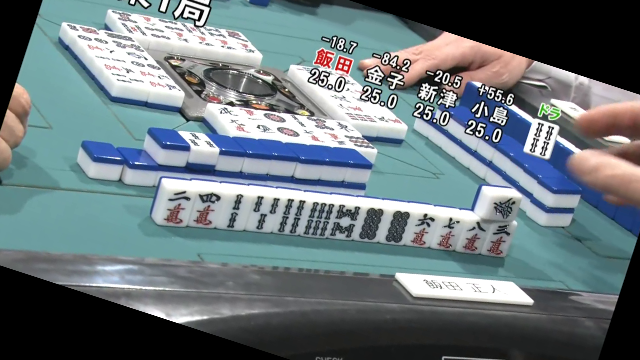Tehai: (148, 167, 519, 258)
